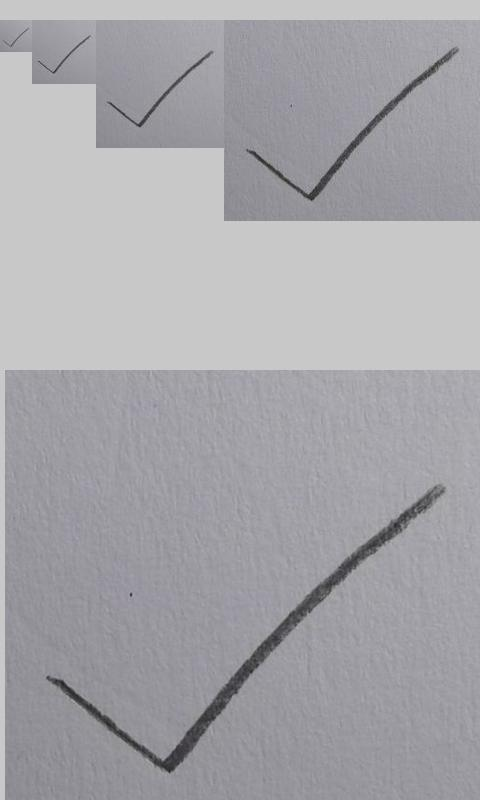check_box: (44, 486, 447, 772), (247, 46, 460, 201), (107, 50, 213, 128), (38, 35, 91, 74), (3, 28, 29, 48)
